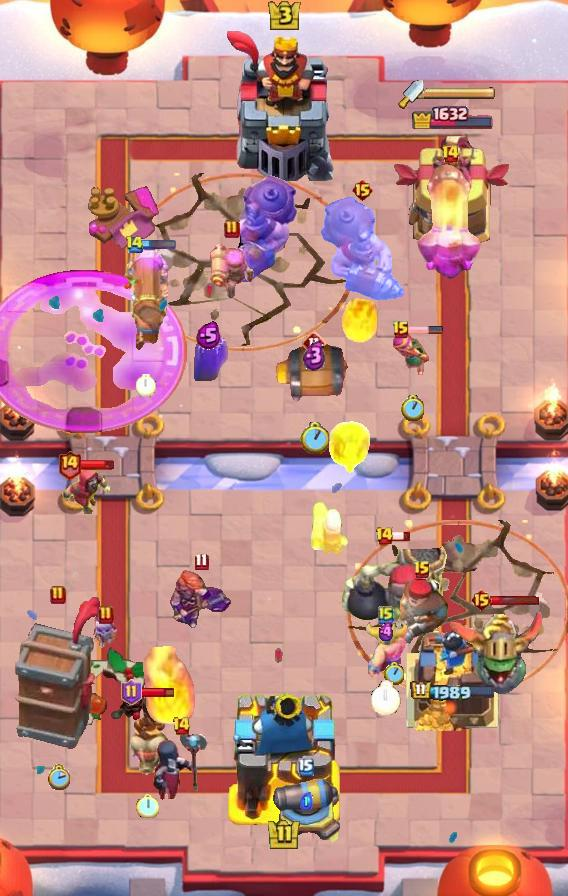bar: (391, 132, 515, 256)
battle-healer: (123, 249, 169, 353)
bowler: (62, 466, 112, 518)
cannon: (393, 331, 431, 379)
dart-goblin: (13, 595, 103, 751)
electro-giant: (338, 535, 450, 645)
electro-spirit: (303, 340, 326, 371), (195, 322, 220, 350), (376, 622, 395, 642), (299, 792, 312, 810)
elite-barbarian: (125, 695, 169, 777)
elixir: (371, 681, 401, 715), (300, 422, 328, 454), (400, 395, 423, 421), (47, 764, 70, 790), (136, 794, 159, 819), (384, 662, 404, 686), (136, 375, 156, 398)
emote: (490, 595, 540, 606), (140, 685, 176, 698), (79, 459, 115, 471), (141, 238, 177, 249), (408, 325, 444, 335), (391, 530, 411, 542)
furnace: (416, 161, 484, 281)
goblin: (90, 615, 122, 655)
goblin-giant: (364, 621, 408, 677)
guard: (131, 173, 355, 352), (348, 521, 568, 700)
king-tower: (223, 31, 345, 181), (226, 688, 342, 826)
king-tower-bar: (424, 87, 496, 101)
knight-evolution: (0, 270, 188, 434)
night-witch: (445, 604, 543, 696)
phoenix-small: (392, 576, 452, 648)
queen-tower: (405, 621, 501, 731)
rascal-boy: (151, 728, 211, 802)
royal-recruit: (269, 775, 343, 845)
selected: (411, 103, 495, 129), (410, 680, 496, 703)
spear-goblin: (188, 331, 228, 381)
tesla-evolution: (169, 567, 233, 631)
text: (57, 448, 82, 479), (302, 331, 326, 355), (351, 178, 374, 202), (471, 588, 494, 612), (121, 679, 142, 705), (440, 144, 459, 164), (374, 526, 393, 546), (173, 716, 192, 736), (124, 234, 143, 253), (392, 320, 410, 340), (413, 560, 431, 580), (224, 219, 240, 239), (50, 585, 66, 605), (98, 605, 114, 625), (378, 605, 394, 625), (298, 758, 314, 776), (195, 553, 209, 571)
the-log: (274, 344, 354, 404)
tombstone: (209, 242, 256, 300), (309, 499, 351, 557)
valkyrie: (143, 643, 201, 729), (322, 418, 374, 480), (341, 290, 383, 346)
wizard: (318, 195, 406, 303), (218, 173, 300, 287)
